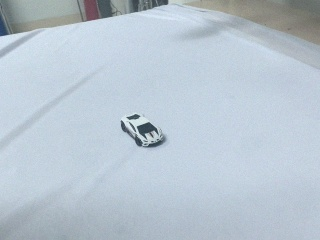toy_car: (120, 113, 165, 147)
